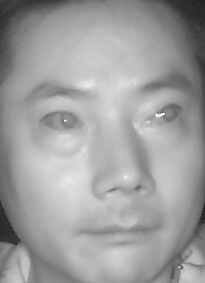eye: (38, 108, 86, 135), (138, 103, 184, 129)
mouth: (77, 213, 157, 254)
